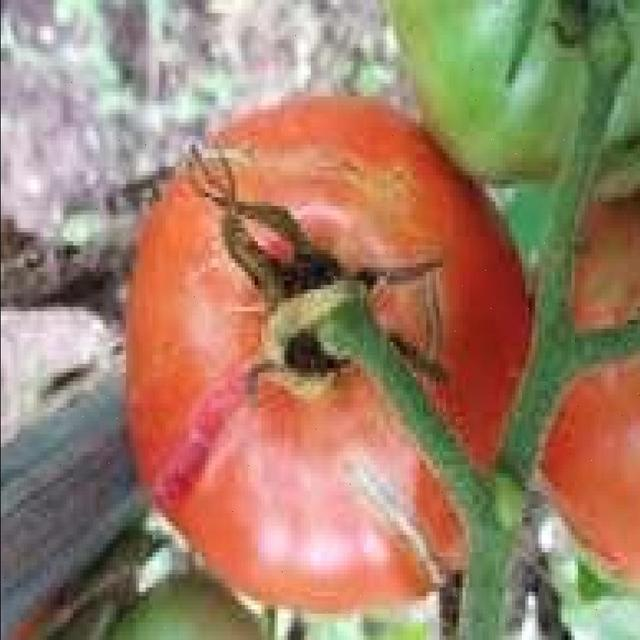Cracking Fruit: (36, 76, 284, 220)
